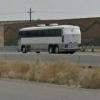Bus: (12, 23, 83, 55)
